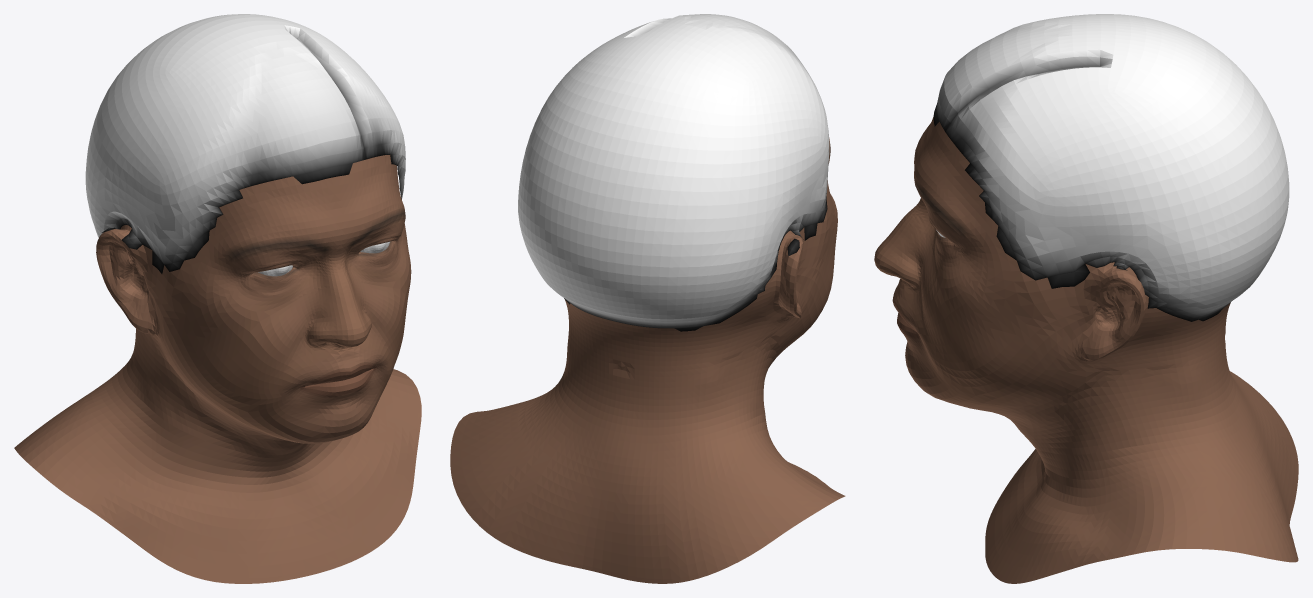
File: sanjay.glb
3 views of the same model, side by side, from view 1: azimuth 30°, elevation 25°; view 2: azimuth 150°, elevation 25°; view 3: azimuth 270°, elevation 25° (orthographic). The views are drawn at different scales.
Parts seen in each view (by area): view 1: gnm_head; view 2: gnm_head; view 3: gnm_head.
Part boxes in pixels (x1,y1,x2,y2): gnm_head: [14, 14, 421, 583]; gnm_head: [450, 14, 845, 583]; gnm_head: [874, 14, 1298, 583].
Bounding box in the file's own units: 0.272 × 0.3461 × 0.2568.
